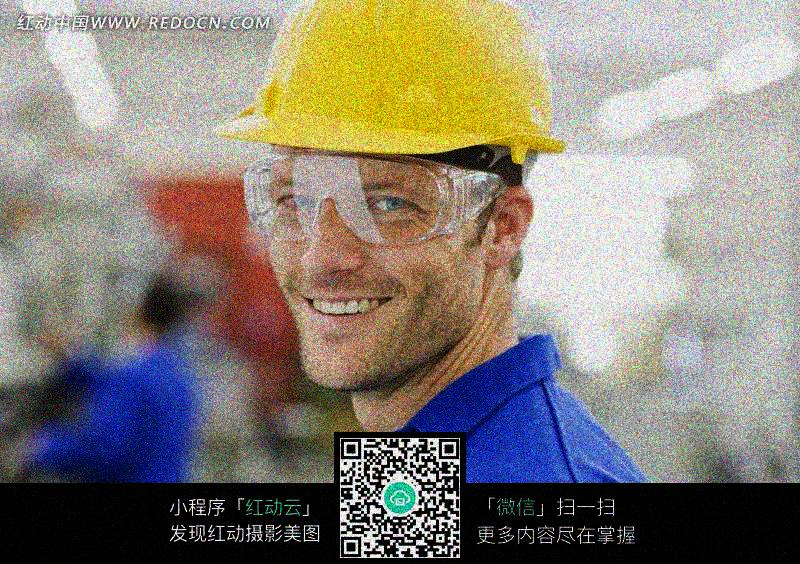helmet: (215, 1, 565, 395)
